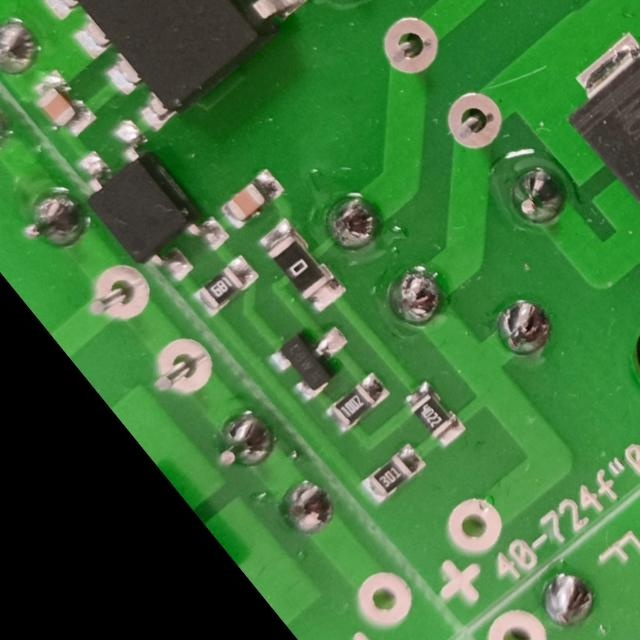chip-capacitor: (23, 66, 99, 146), (210, 164, 287, 236)
chip-resistor: (252, 214, 351, 322), (315, 366, 396, 442), (396, 376, 470, 454), (185, 250, 263, 324), (355, 442, 429, 510)
ic: (55, 111, 232, 298)
transistor: (260, 305, 367, 411)
